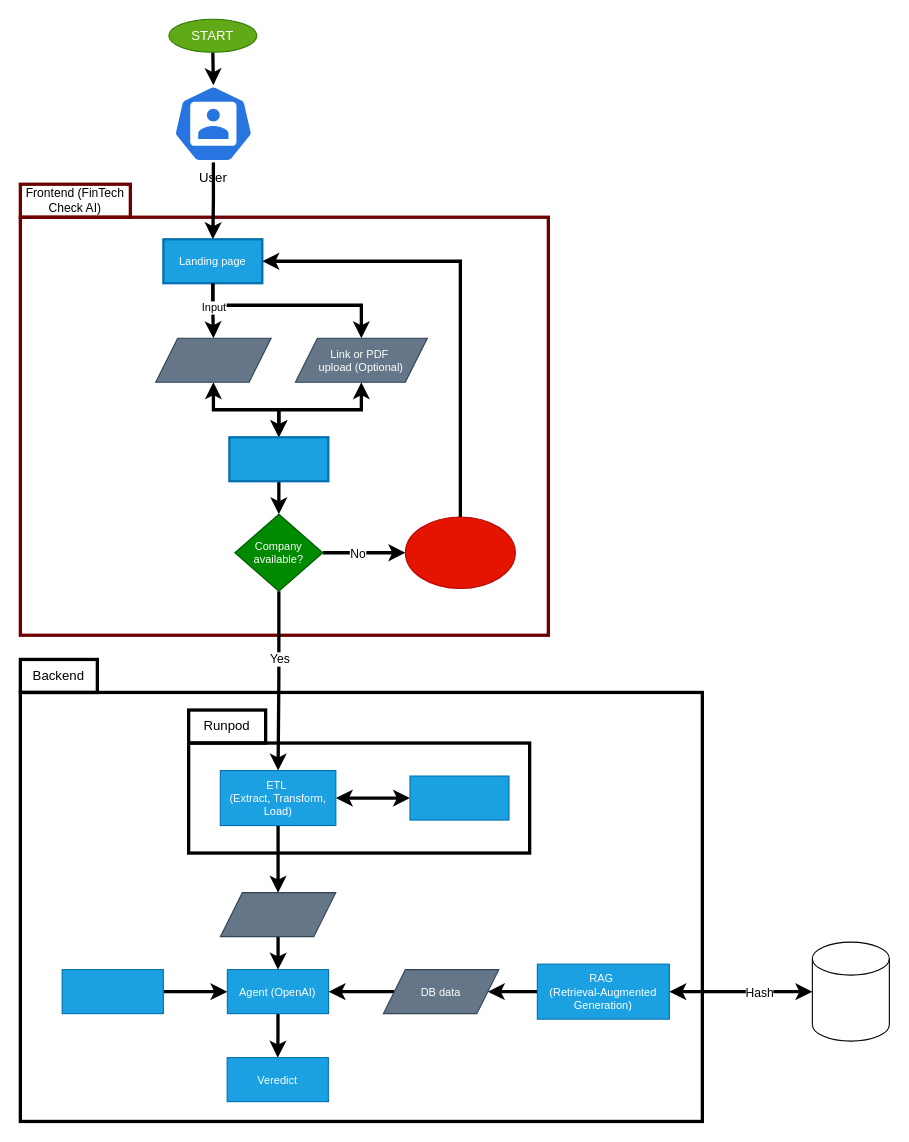
The diagram is 909 pixels wide and 1142 high, and some of its shapes have lost their labels. The box of each missing label's shape, as (x1, y1, x2, y2) in pixels:
Company list: (228, 436, 329, 482)
OCR / Fetch: (409, 775, 509, 820)
Opik (AI monitoring): (61, 969, 163, 1014)
Processed data: (219, 892, 336, 937)
RETURN (company not available for check): (404, 516, 515, 588)
Truth DB (Tower): (811, 941, 889, 1041)
Youtube video: (155, 337, 271, 382)
